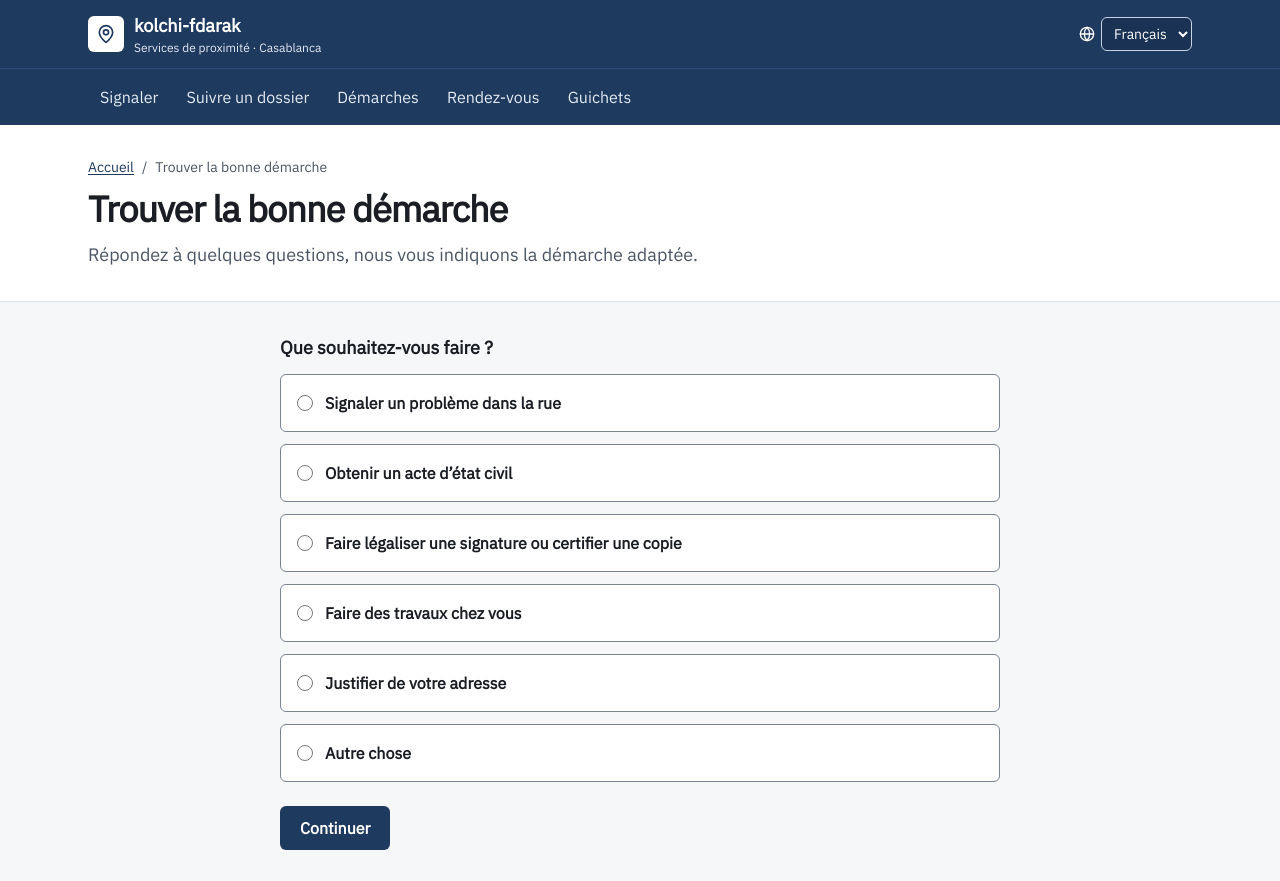
Test case: orientation › mène à une démarche avec le fil des réponses
Expected: the element "Que souhaitez-vous faire ?" is shown, 280,334 -> 1000,782
Click the radio button labelled "Obtenir un acte d’état civil" at (305,473), box 297,465 -> 313,481
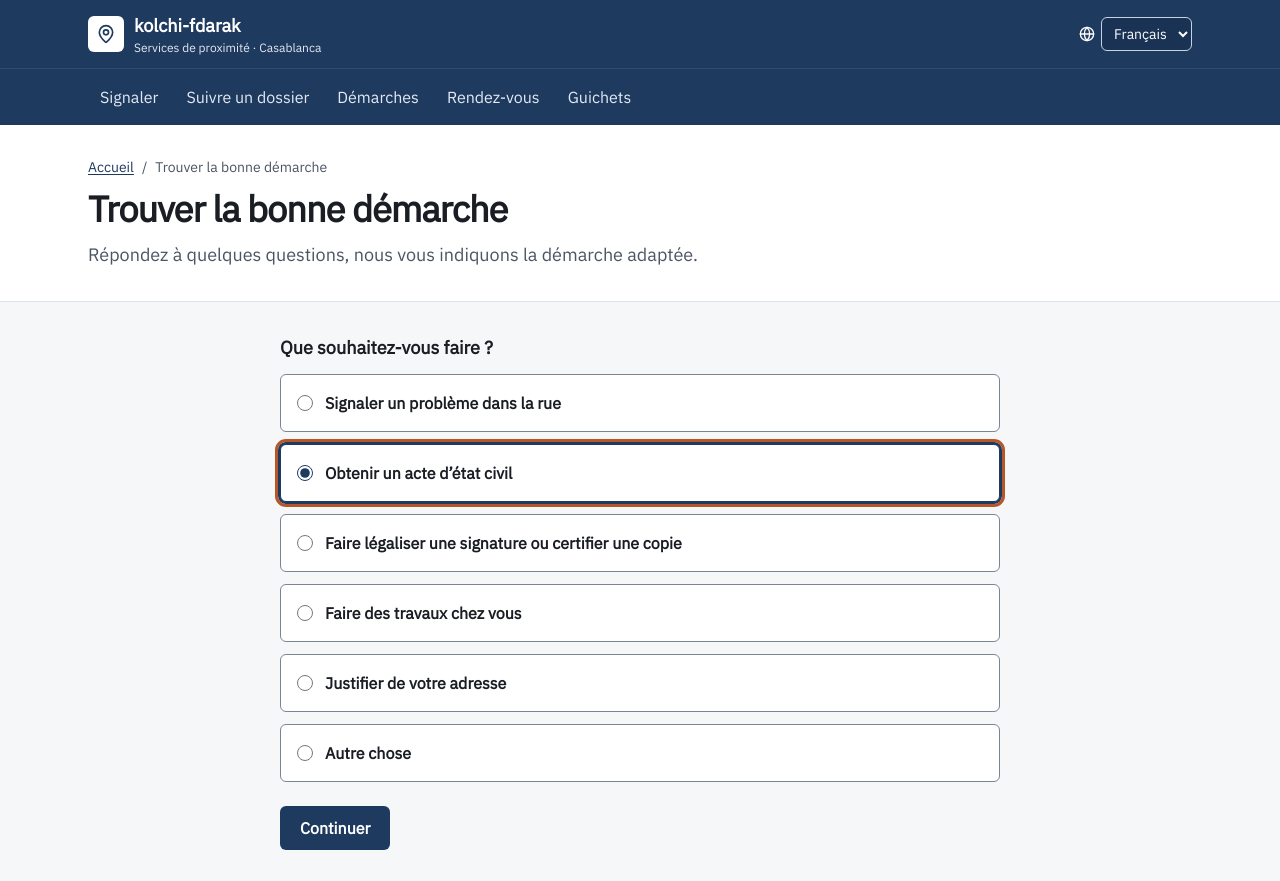
Click the button "Continuer" at (335,828), box 280,806 -> 390,850
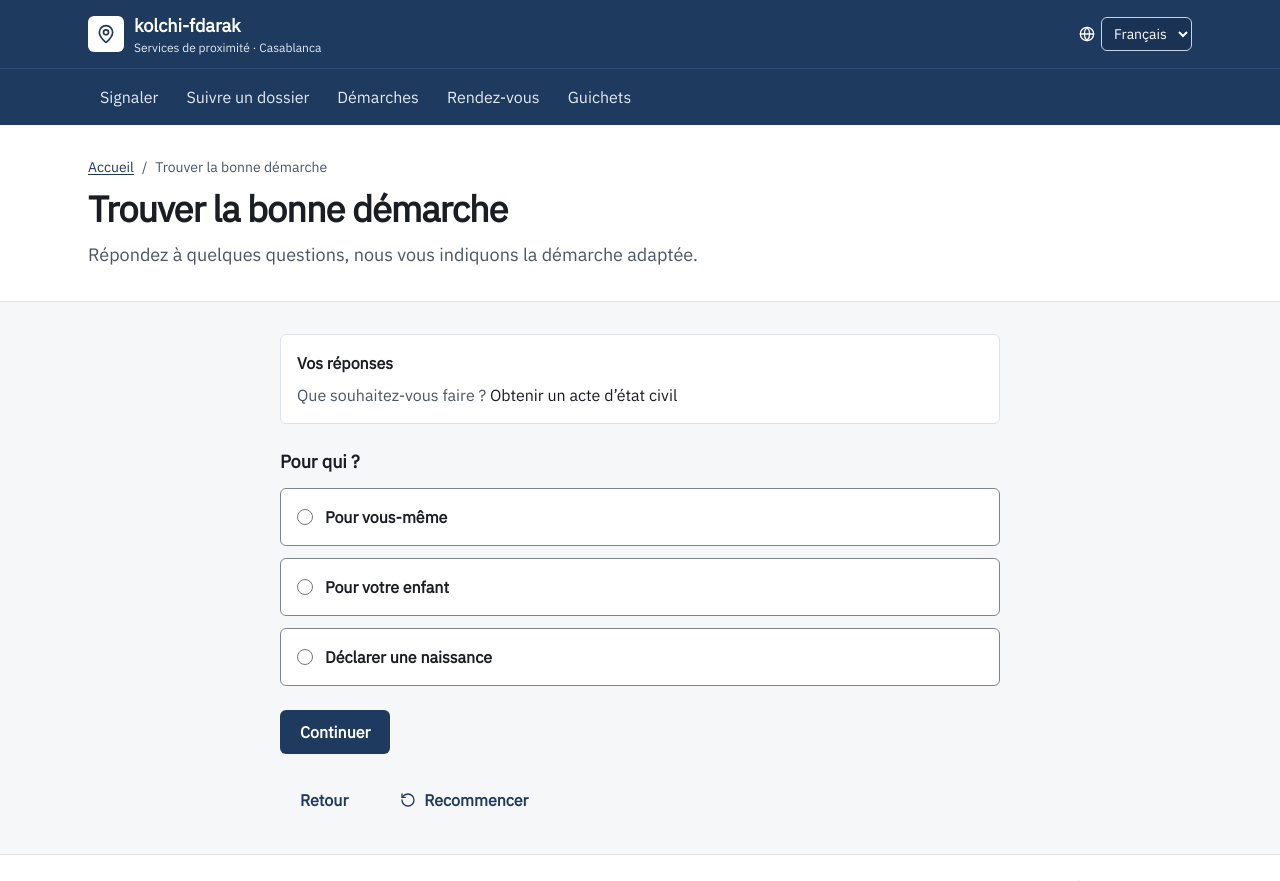
Click the radio button labelled "Pour votre enfant" at (305,587), box 297,579 -> 313,595
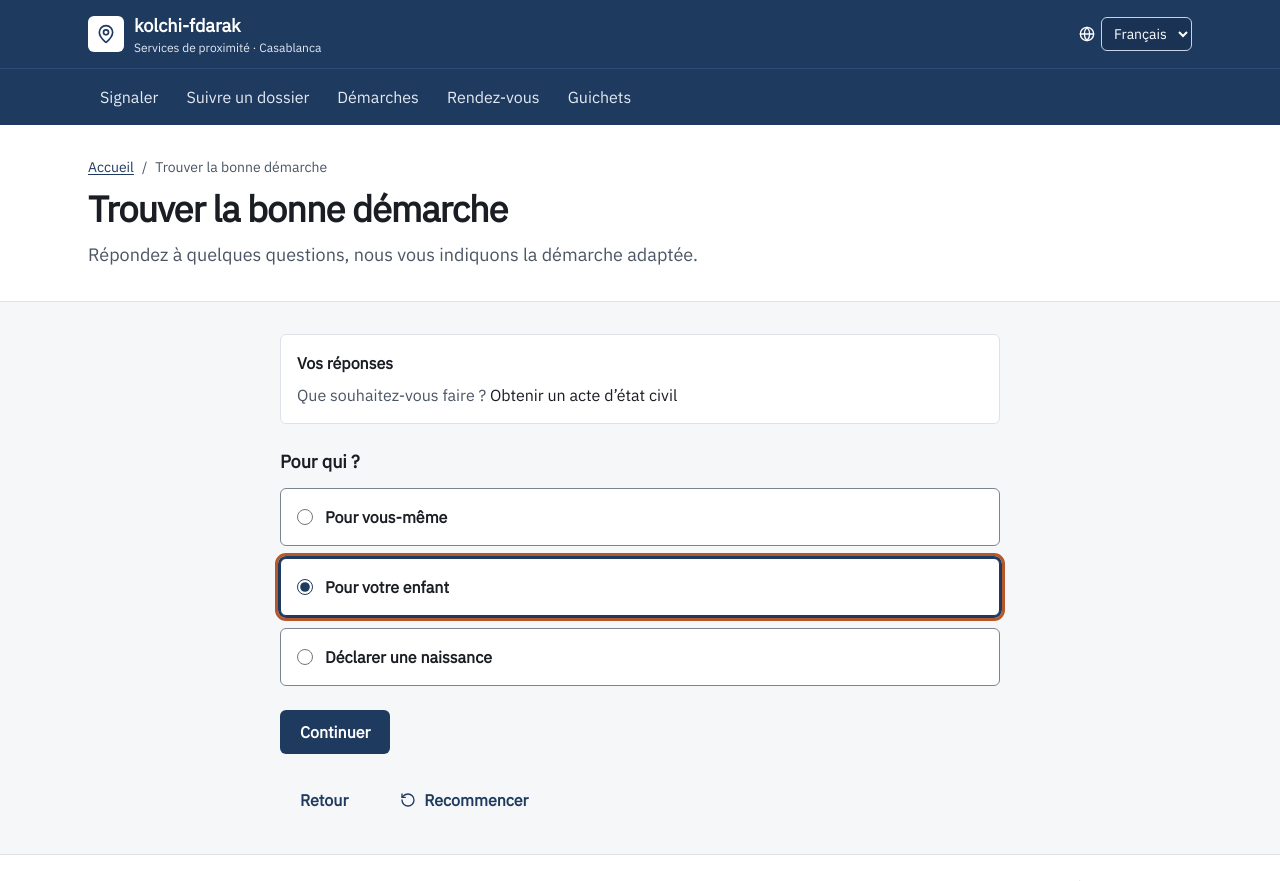
Click the button "Continuer" at (335,732), box 280,710 -> 390,754
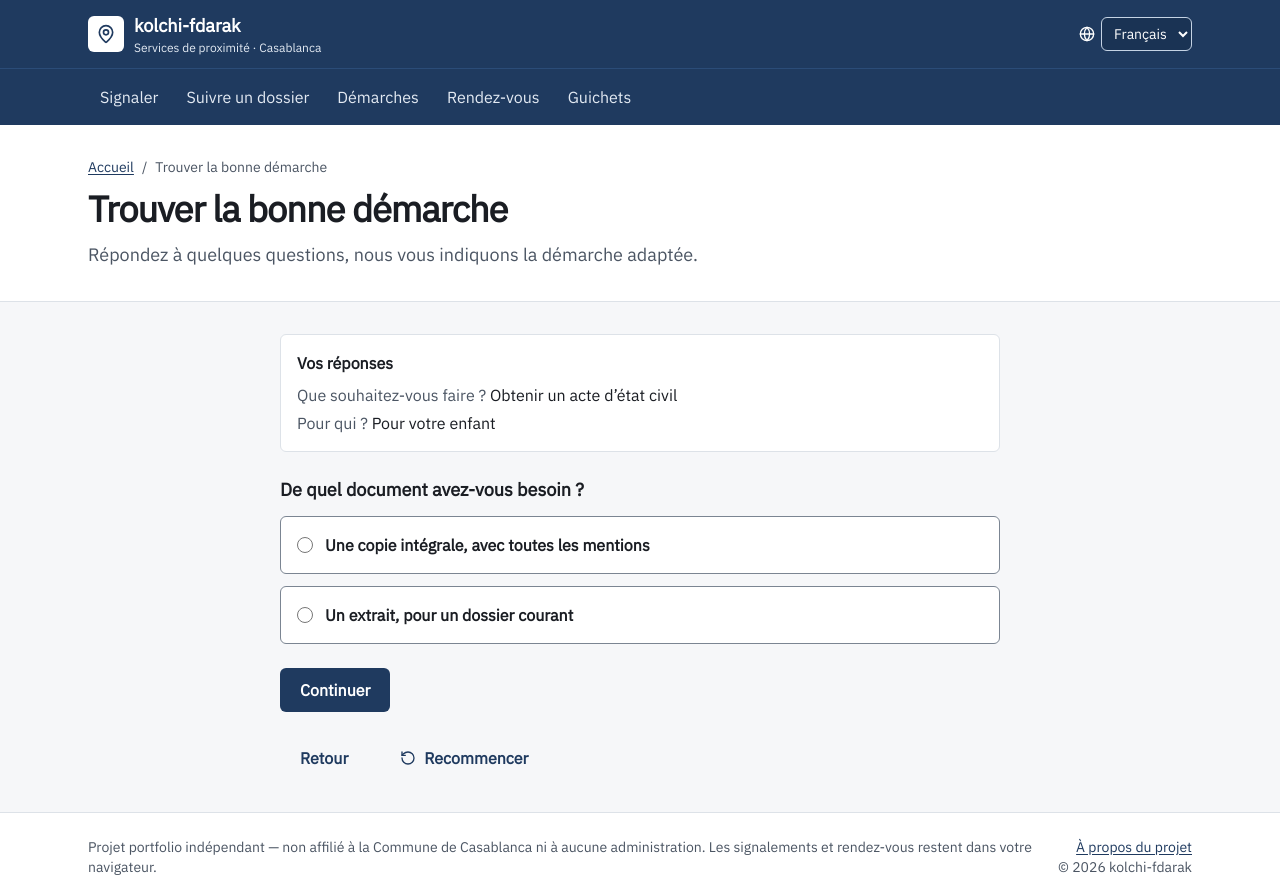
Click the radio button labelled "Une copie intégrale, avec toutes les mentions" at (305,545), box 297,537 -> 313,553
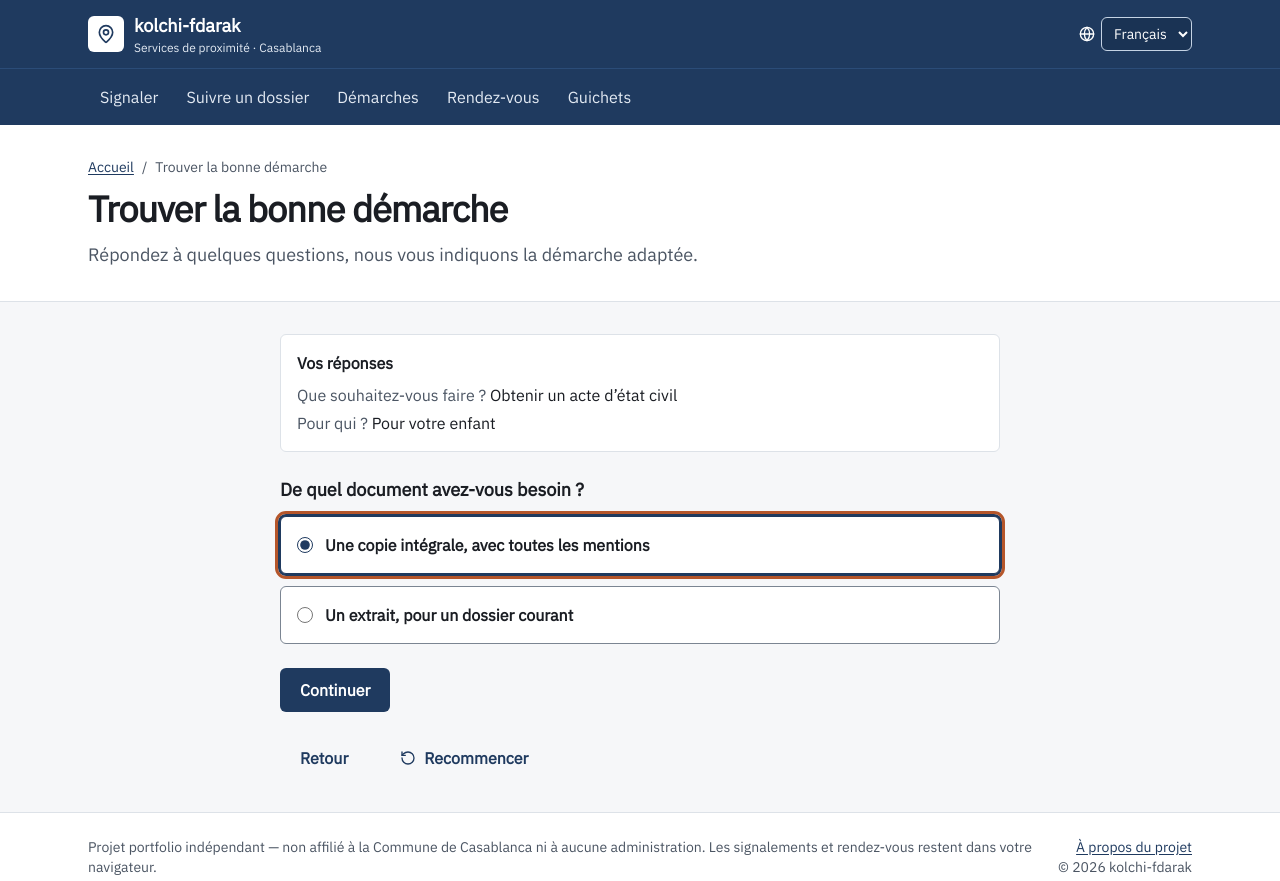
Click the button "Continuer" at (335,690), box 280,668 -> 390,712
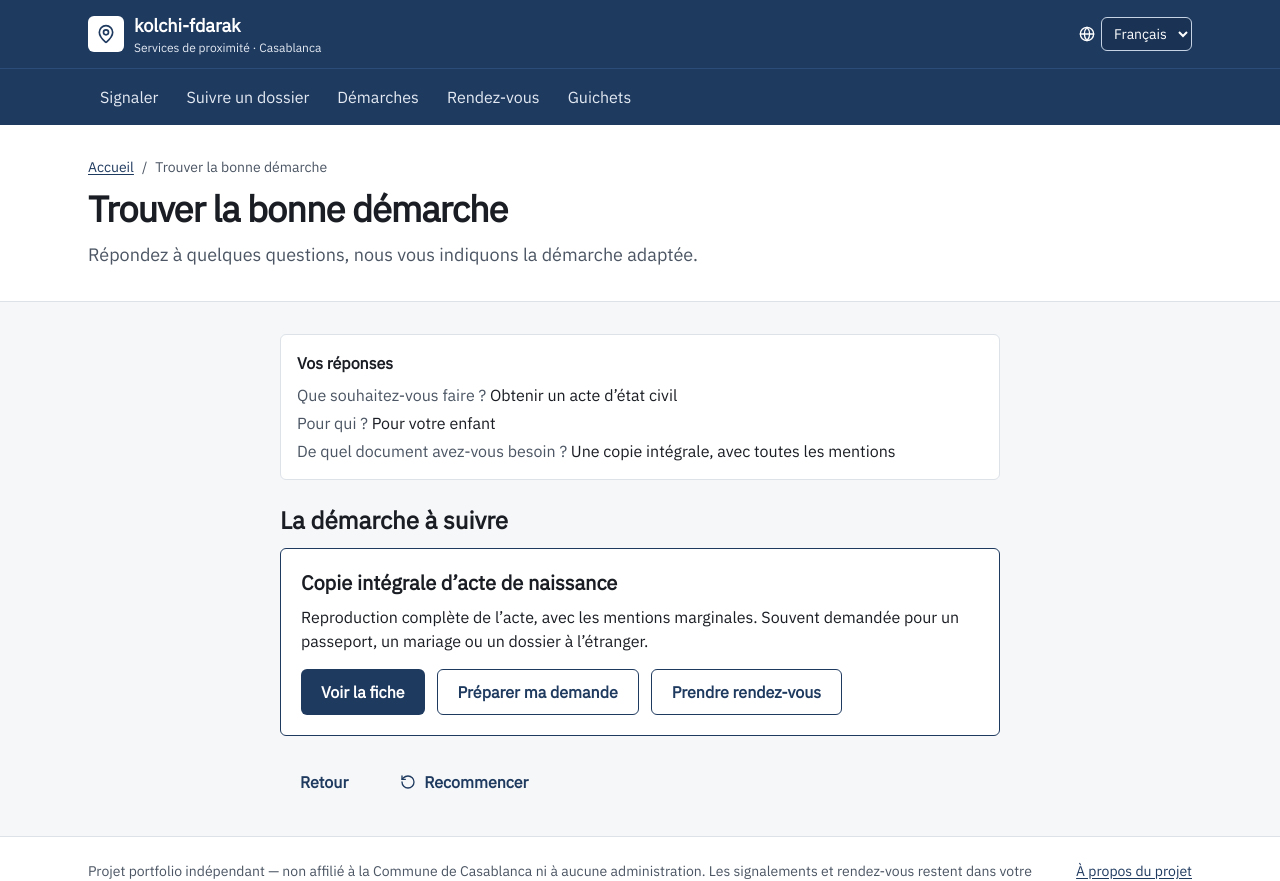
Result: the list item "Pour votre enfant" is shown at 372,413 -> 496,433
Result: the heading "Copie intégrale d’acte de naissance" is shown at 301,569 -> 617,596
